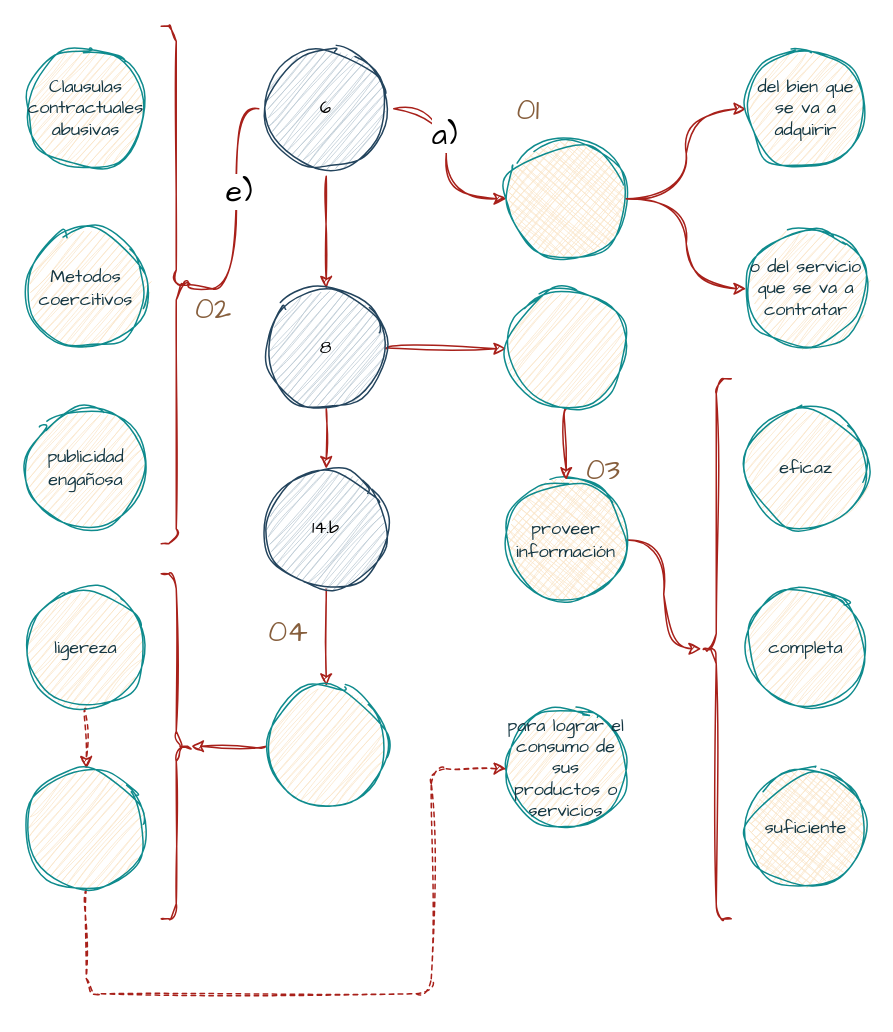
Image size: 893x1032. Some labels were removed from this diagram. Each missing label, with the centre of its shape:
"aprovechar" goes at point 325,745.
"ignorancia" goes at point 85,828.
"la libre elección" goes at point 565,198.
"quienes comercialicen bienes" goes at point 565,348.
